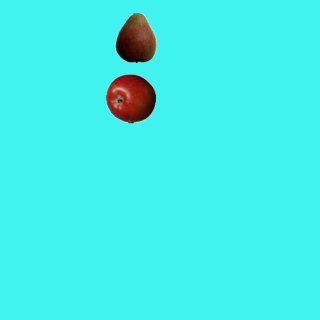Apple Braeburn: (105, 73, 155, 123)
Pear Forelle: (110, 12, 160, 62)
